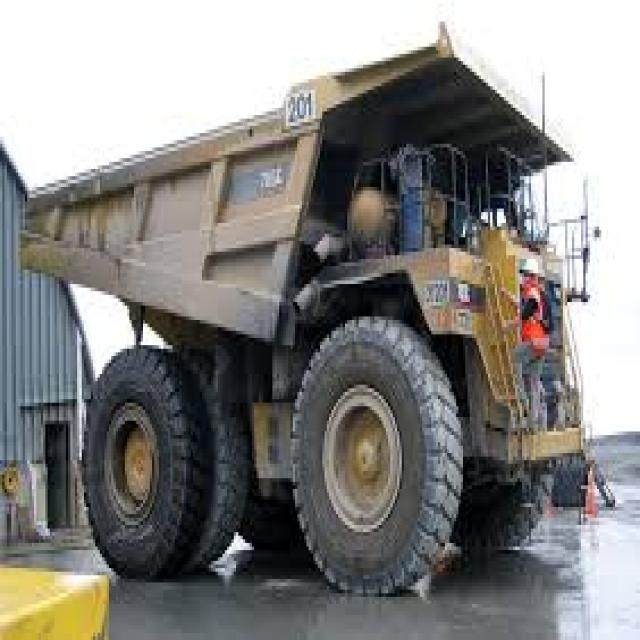dump_truck: (28, 14, 602, 597)
